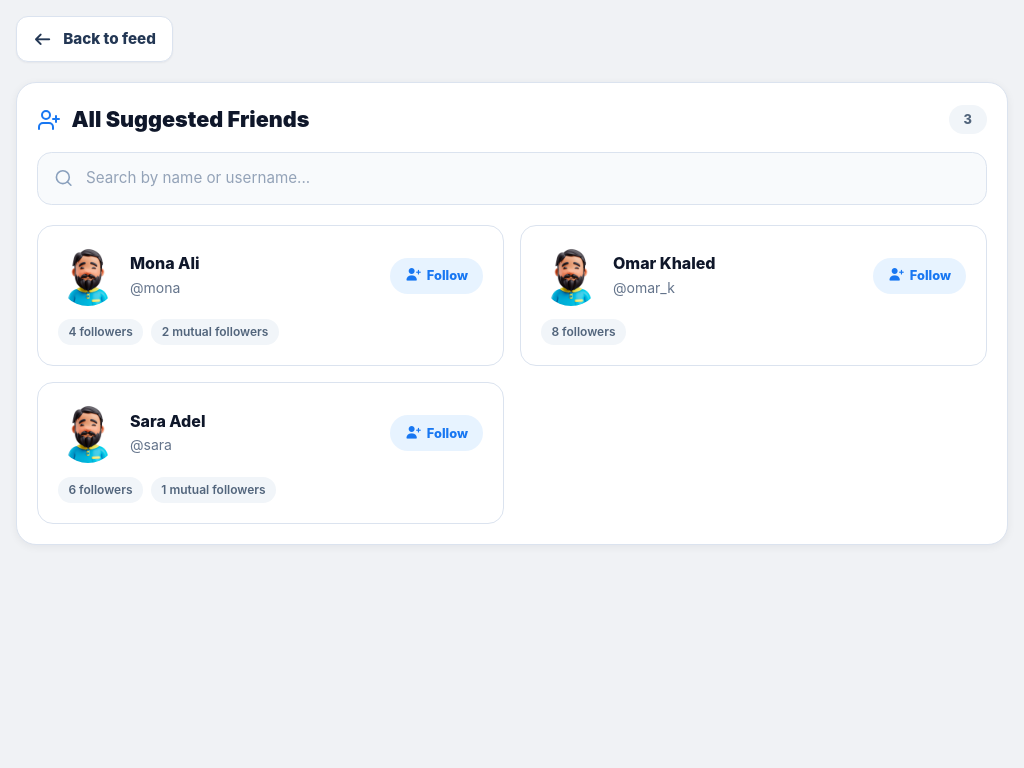
it: SuggestionsComponent › filters by name or username and updates the displayed count
Type "omar" into the search field with placeholder "Search by name or username..." at (528, 178), box [86,167,970,190]
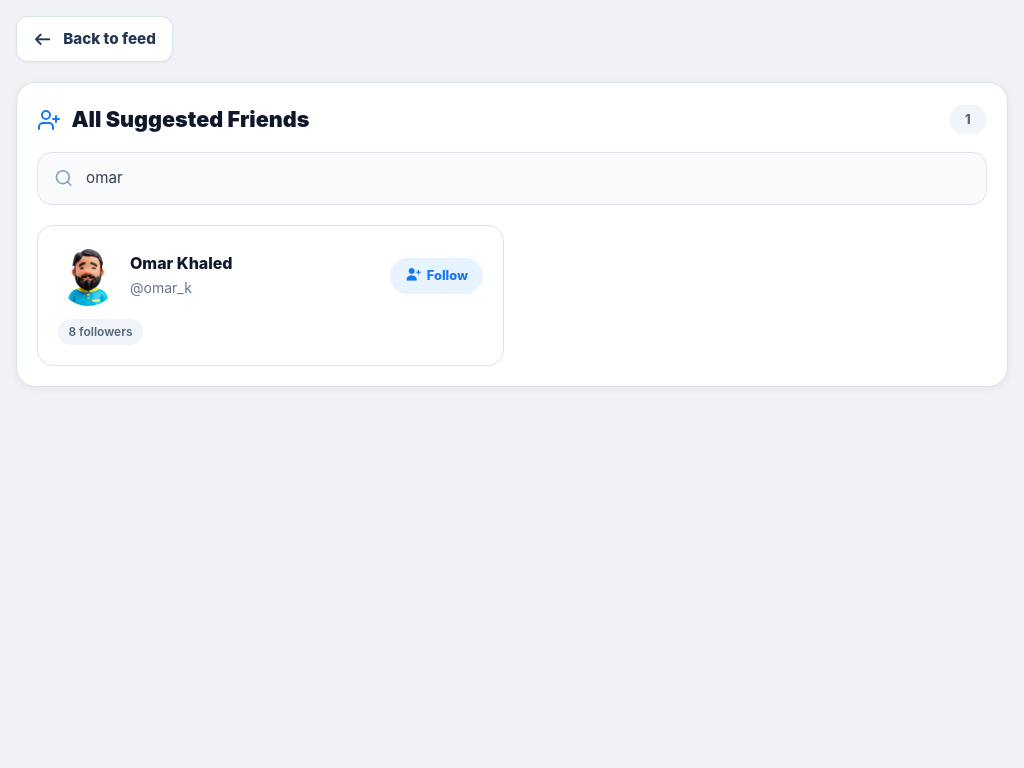
Expected: the text "Omar Khaled" is shown, [130,254,233,274]
Expected: the text "1" is shown, [949,105,987,134]
Replace the text in the search field with "missing" at (528, 178), box [86,167,970,190]
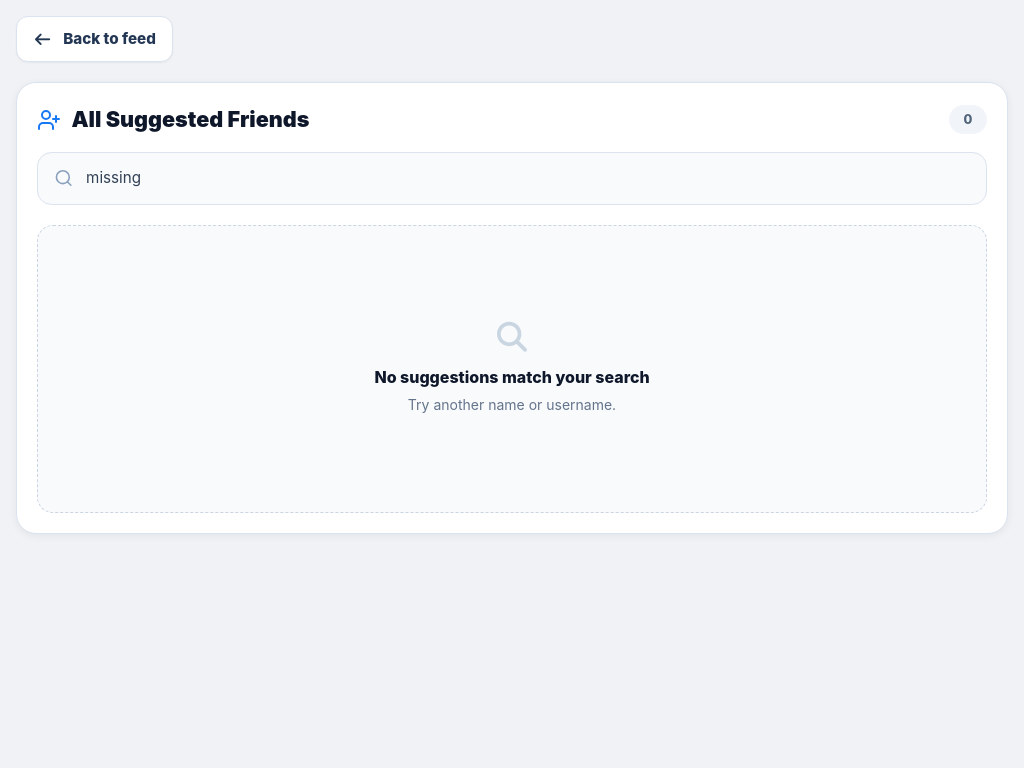
Expected: the text "No suggestions match your search" is shown, [374,366,650,390]
Expected: the text "0" is shown, [949,105,987,134]
